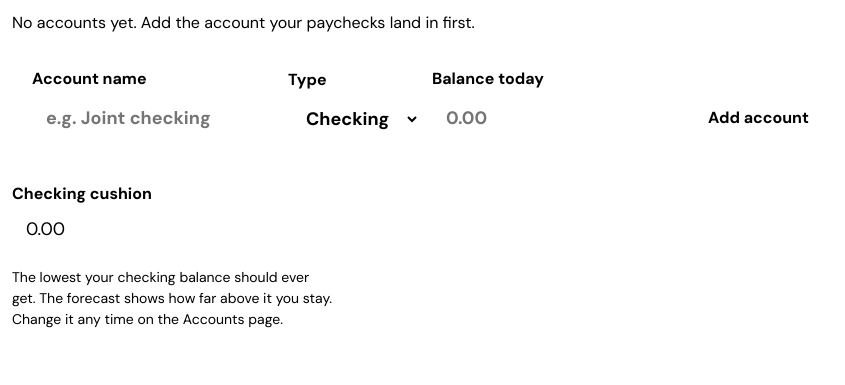
Test: P1-10 bank accounts step › P1-10: every account needs a name
Check: the field labelled "Account name" is shown, box [32,95,276,142]
Type "10" into the field labelled "Balance today". click: (554, 118)
box: [432,95,676,142]
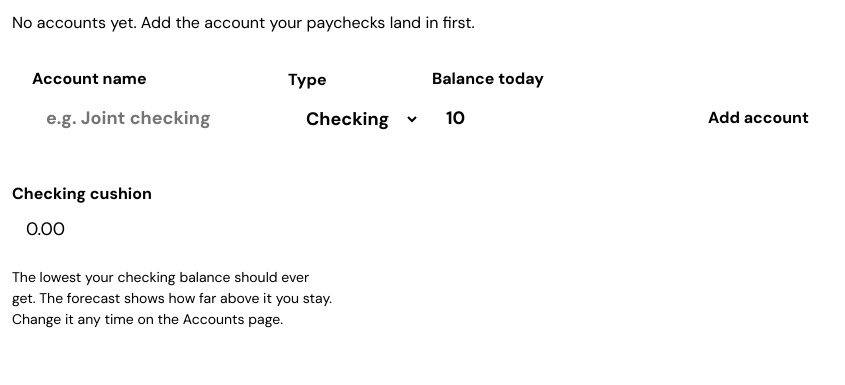
Click the button "Add account". click: (758, 118)
box: [688,94,829,142]
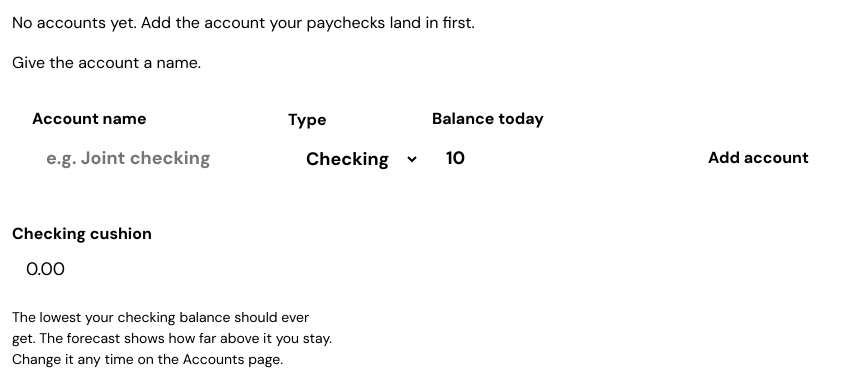
Check: the message reads "Give the account a name.", box [12,52,201,73]
